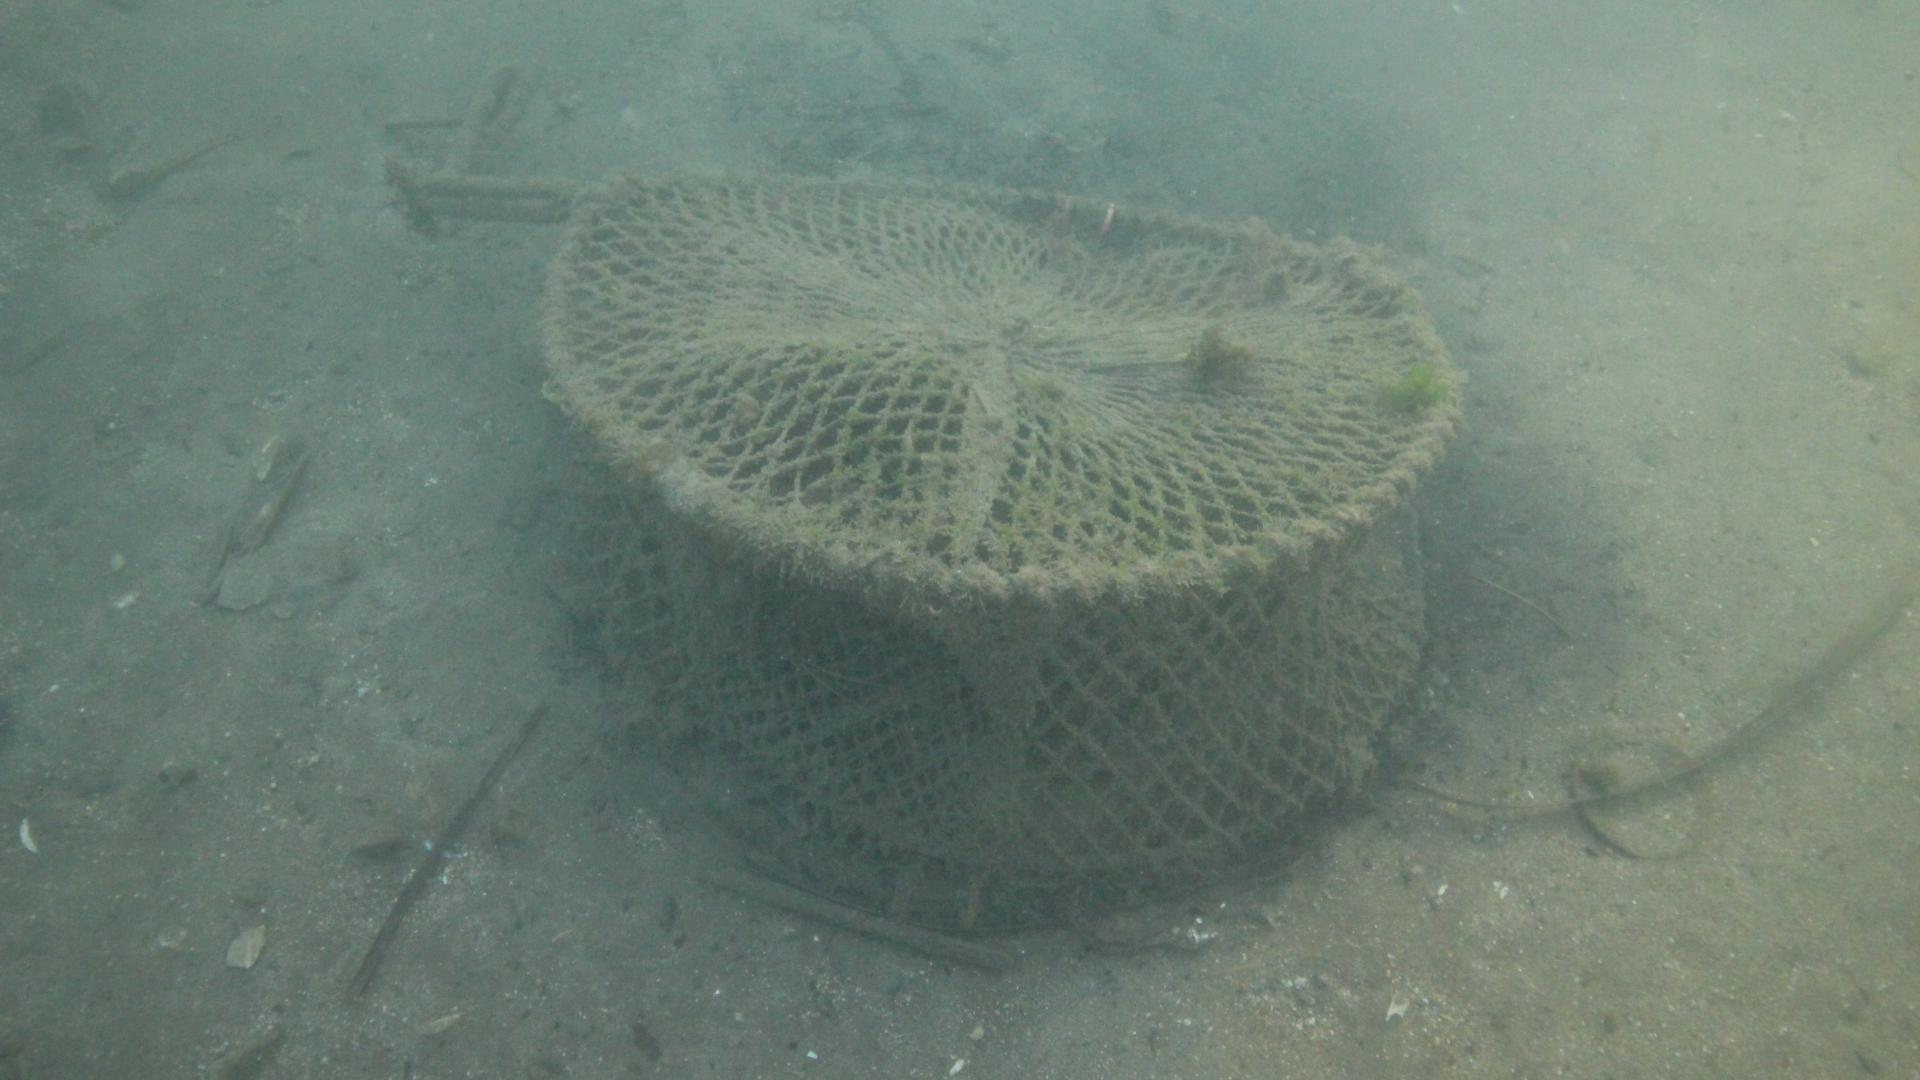circular fish trap: (538, 164, 1466, 914)
